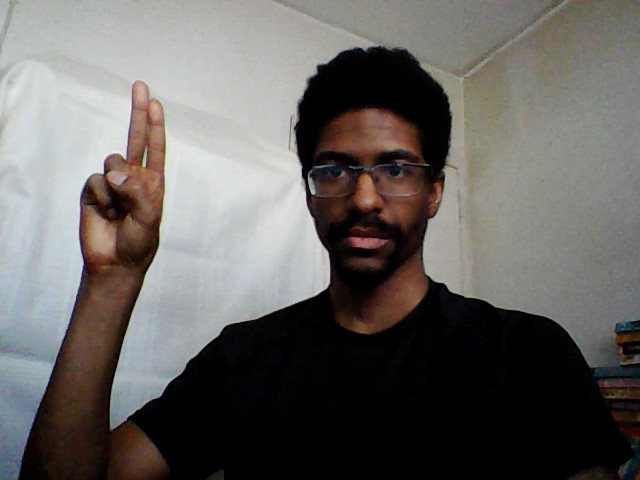u: (71, 76, 171, 274)
